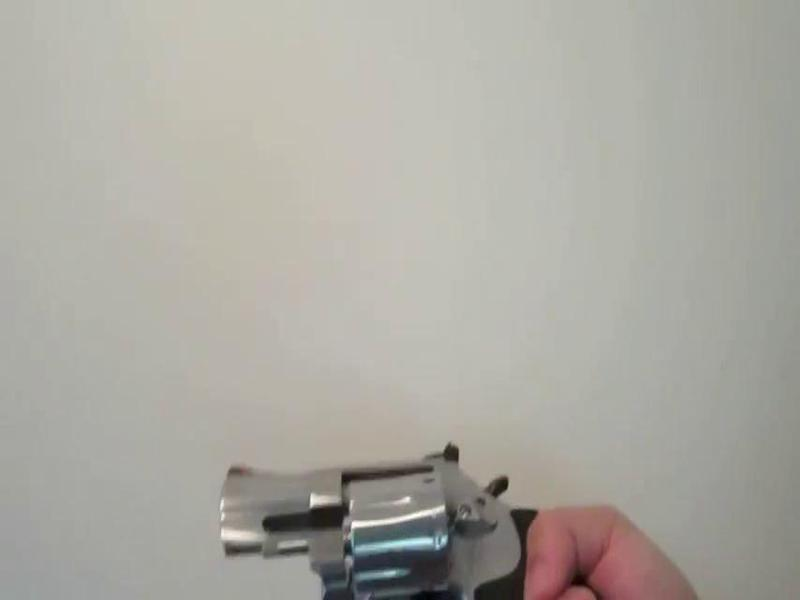Revolver: (177, 423, 582, 600)
